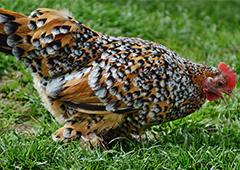AbNormal: (0, 0, 240, 151)
